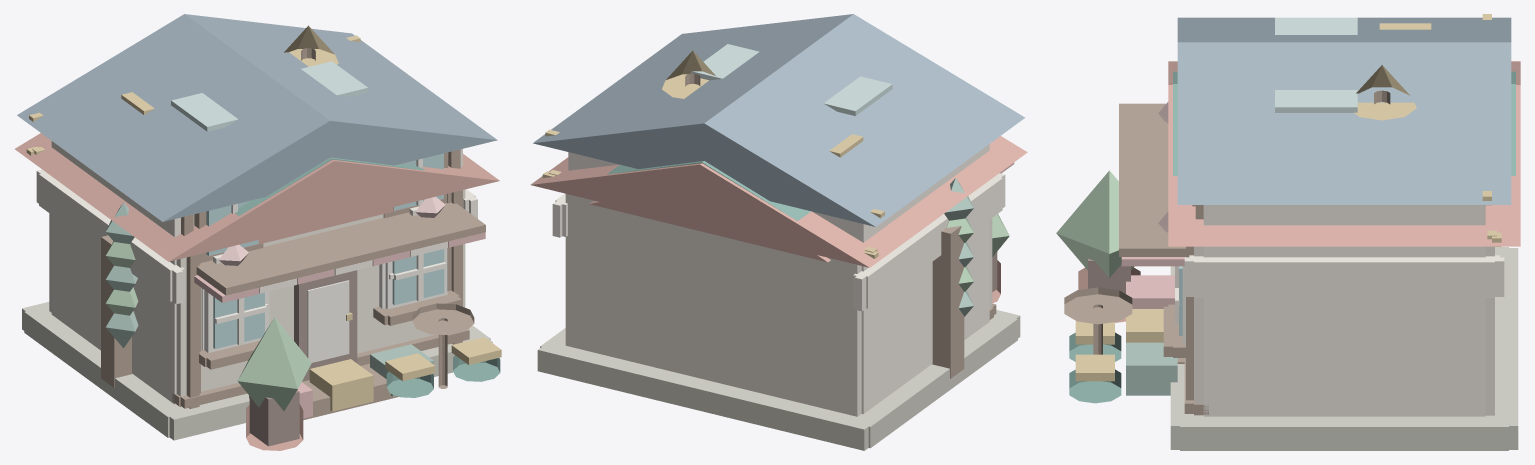
The model's file is crew-town-art-kit.glb.
3 views of the same model, side by side, from view 1: azimuth 30°, elevation 25°; view 2: azimuth 150°, elevation 25°; view 3: azimuth 270°, elevation 25° (orthographic). The views are drawn at different scales.
Visible parts, largest first — view 1: roof-slate, stucco-walls (×2), roof-terracotta (×2), box-timber (×4), foundation (×3), gem-leaf (×3), box-ivory (×2), window-glass (×2), colorful-play-crate (×2), box-white, sky-light (×2), front-door (+14 smaller); view 2: stucco-walls (×2), roof-slate, roof-terracotta (×2), foundation (×2), box-ivory (×2), ivy-trellis, sky-light (×2), pennant, roof-sageDark, gem-sage; view 3: roof-slate, stucco-walls (×2), foundation (×3), box-ivory (×2), roof-terracotta, box-timber (×2), colorful-play-crate (×3), gem-leaf, sky-light (×2), cylinder-timber, cylinder-sageDark (×2), box-gold (×2) (+5 smaller).
Boxes of the visible parts, box(x1,y1,x2,y2) form: roof-slate: box(17, 14, 497, 221); stucco-walls (×2): box(49, 141, 465, 406); roof-terracotta (×2): box(15, 133, 499, 261); box-timber (×4): box(180, 190, 485, 408); foundation (×3): box(22, 302, 492, 440); gem-leaf (×3): box(105, 241, 311, 411); box-ivory (×2): box(36, 169, 183, 304); window-glass (×2): box(213, 249, 444, 348); colorful-play-crate (×2): box(309, 344, 433, 411); box-white: box(307, 280, 349, 362); sky-light (×2): box(171, 61, 368, 131); front-door: box(296, 270, 357, 381); stucco-walls (×2): box(565, 144, 992, 416); roof-slate: box(533, 14, 1024, 226); roof-terracotta (×2): box(530, 136, 1027, 267); foundation (×2): box(537, 310, 1020, 450); box-ivory (×2): box(854, 173, 1005, 311); ivy-trellis: box(932, 226, 964, 378); sky-light (×2): box(690, 44, 892, 115); pennant: box(662, 50, 715, 98); roof-sageDark: box(607, 161, 810, 220); gem-sage: box(944, 178, 973, 220); roof-slate: box(1177, 17, 1511, 204); stucco-walls (×2): box(1194, 205, 1494, 416); foundation (×3): box(1170, 247, 1518, 450); box-ivory (×2): box(1184, 257, 1504, 297); roof-terracotta: box(1168, 61, 1520, 246); box-timber (×2): box(1119, 103, 1193, 400); colorful-play-crate (×3): box(1126, 275, 1177, 395); gem-leaf: box(1056, 170, 1134, 277); sky-light (×2): box(1275, 17, 1357, 112); cylinder-timber: box(1064, 287, 1132, 324); cylinder-sageDark (×2): box(1069, 332, 1121, 403); box-gold (×2): box(1075, 321, 1114, 381).
Bounding box in the file's own units: 4.76 × 3.92 × 4.94.
